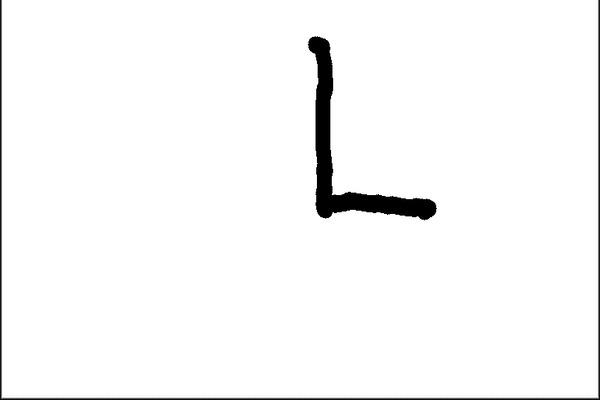L: (300, 31, 440, 227)
